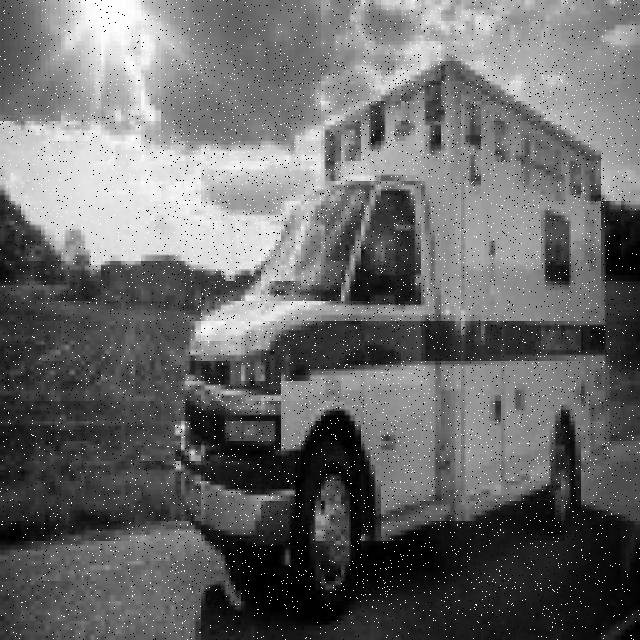Ambulance: (175, 59, 612, 617)
